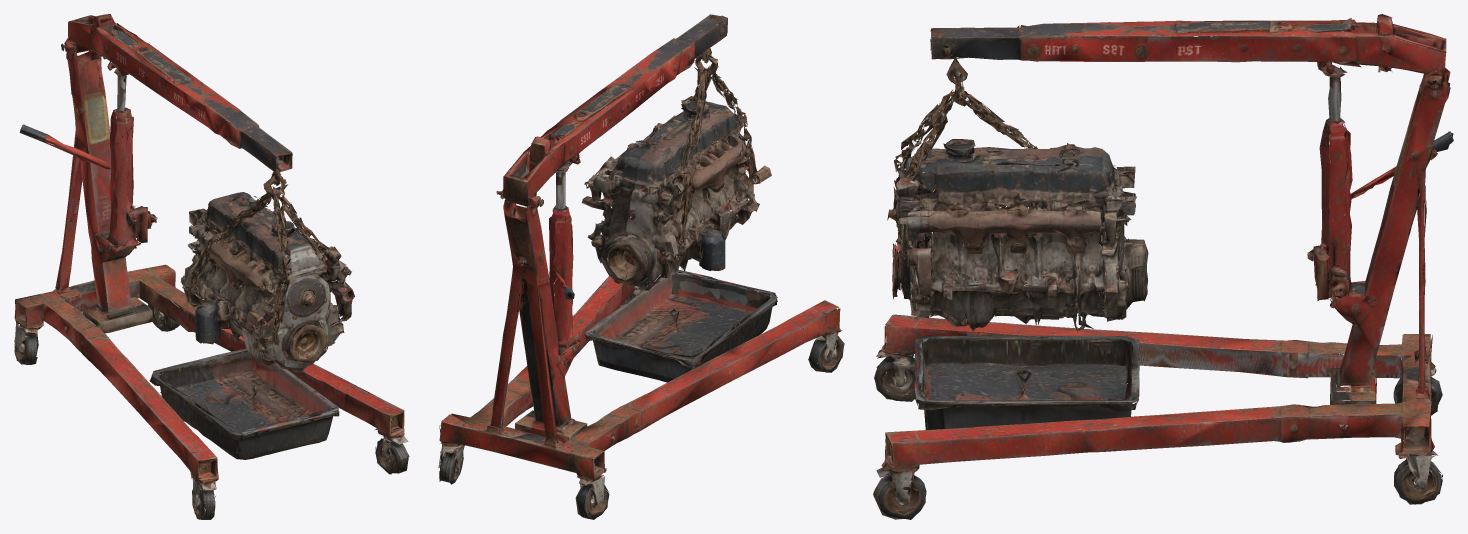
File: depot_engine_hoist.gltf
3 views of the same model, side by side, from view 1: azimuth 30°, elevation 25°; view 2: azimuth 150°, elevation 25°; view 3: azimuth 270°, elevation 25° (orthographic). The views are drawn at different scales.
Parts seen in each view (by area): view 1: texture_mapping; view 2: texture_mapping; view 3: texture_mapping.
Part boxes in pixels (box(x1,y1,x2,y2)): texture_mapping: box(14, 14, 409, 519); texture_mapping: box(438, 14, 844, 519); texture_mapping: box(873, 14, 1453, 519).
Size of the model in its own units: 1.11 by 1.75 by 2.1.
Materials: 1 (1 with a texture image).
